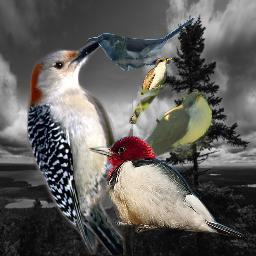Cuckoo: (103, 92, 212, 170), (87, 16, 198, 71), (128, 56, 174, 125)
Woodpecker: (27, 38, 133, 255), (88, 136, 245, 237)
